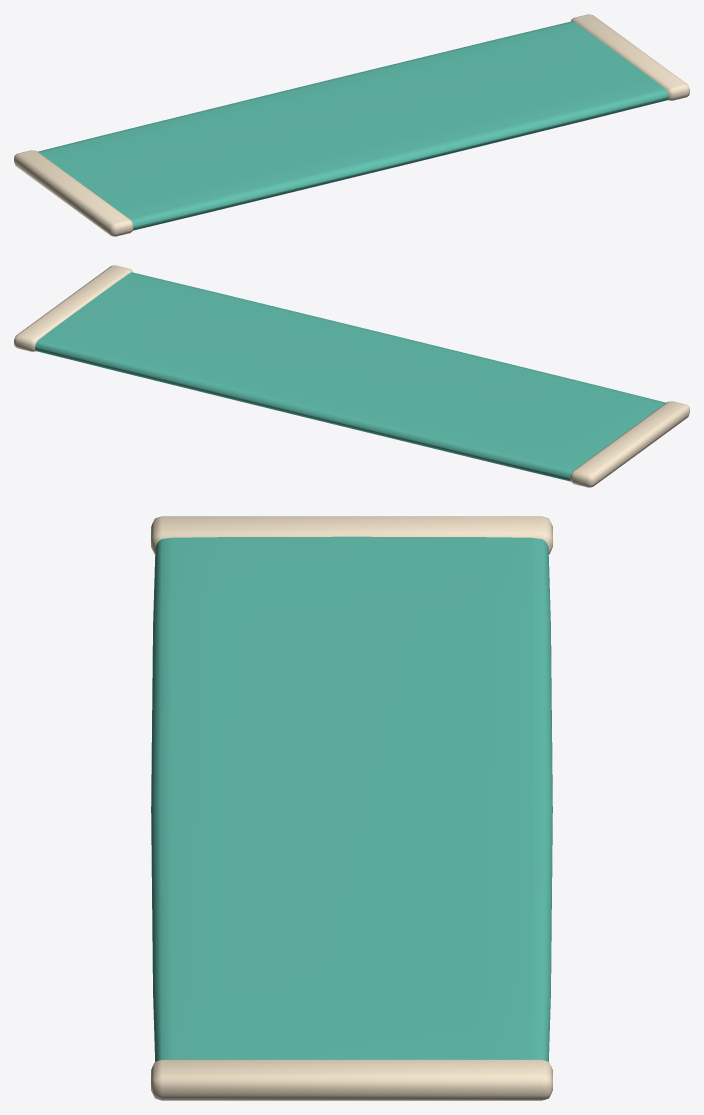
The model's file is table_cover_a.glb.
The picture shows the model from 3 angles, top to bottom: view 1: azimuth 30°, elevation 25°; view 2: azimuth 150°, elevation 25°; view 3: azimuth 270°, elevation 25°; orthographic projection. The views are drawn at different scales.
Visible parts, largest first — view 1: body; view 2: body; view 3: body.
Boxes of the visible parts, left/top/right/bottom form: body: left=14, top=14, right=689, bottom=236; body: left=14, top=265, right=689, bottom=487; body: left=151, top=516, right=552, bottom=1100.
Bounding box in the file's own units: 1 × 0.022 × 0.3.
